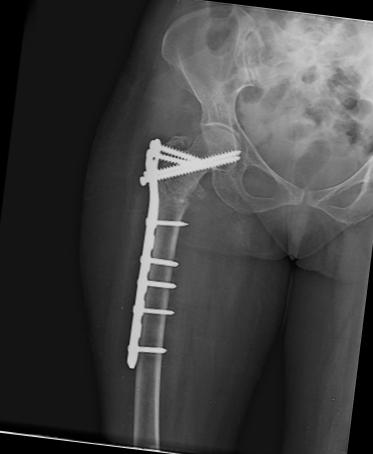fractured: (155, 179, 192, 209)
